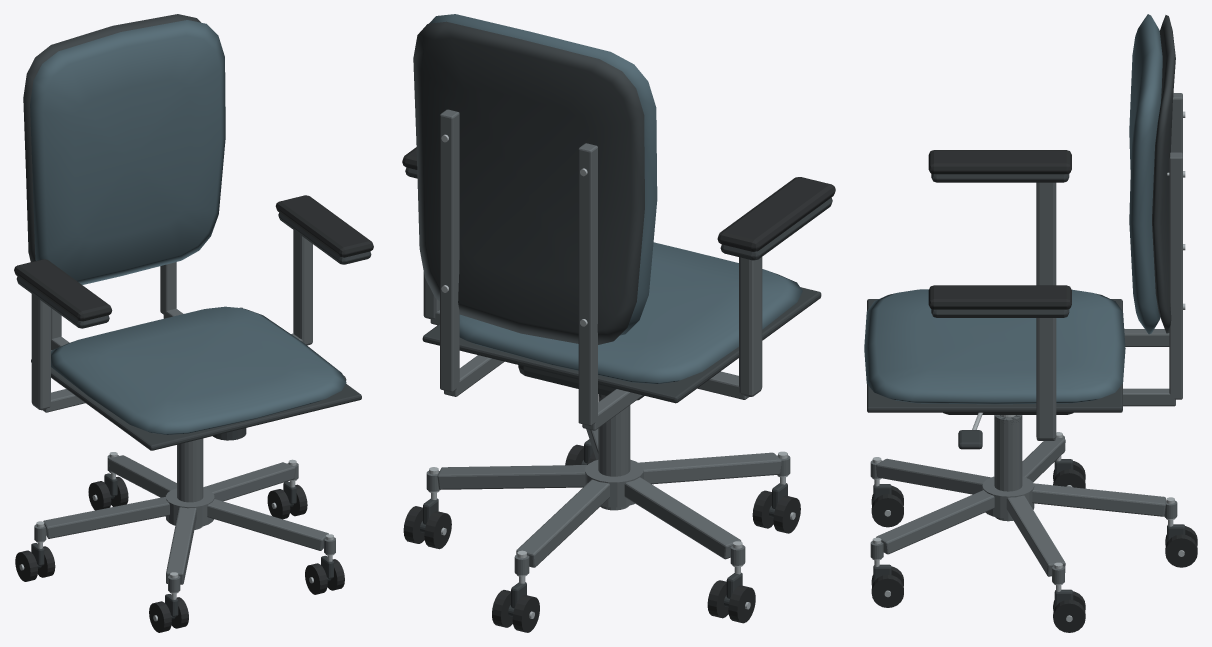
3 views of the same model, side by side, from view 1: azimuth 30°, elevation 25°; view 2: azimuth 150°, elevation 25°; view 3: azimuth 270°, elevation 25° (orthographic). The views are drawn at different scales.
Parts seen in each view (by area): view 1: Back_cushion, Seat_cushion, Seat_under_shell, Back_shell, Arm_pad_-1, Arm_pad_1, Spoke_1, Spoke_3, Arm_post_-1, Arm_post_1, Spoke_4, Column_sleeve (+12 smaller); view 2: Back_shell, Seat_cushion, Back_upright_-1, Back_cushion, Back_upright_1, Seat_under_shell, Arm_pad_-1, Spoke_4, Arm_post_-1, Spoke_2, Spoke_1, Spoke_0 (+15 smaller); view 3: Seat_cushion, Back_cushion, Back_shell, Arm_pad_-1, Arm_pad_1, Back_upright_1, Seat_under_shell, Spoke_0, Spoke_3, Arm_post_1, Spoke_2, Arm_post_-1 (+15 smaller).
Part boxes in pixels (x1,y1,x2,y2): Back_cushion: (30,20,225,284); Seat_cushion: (51,306,346,434); Seat_under_shell: (31,307,361,450); Back_shell: (23,14,200,261); Arm_pad_-1: (14,259,112,321); Arm_pad_1: (275,195,373,257); Spoke_1: (43,497,169,538); Spoke_3: (207,499,328,550); Arm_post_-1: (31,294,50,410); Arm_post_1: (293,230,312,345); Spoke_4: (203,462,295,501); Column_sleeve: (177,438,203,502); Back_shell: (413,21,644,344); Seat_cushion: (459,242,802,383); Back_upright_-1: (578,143,597,425); Back_cushion: (429,14,657,335); Back_upright_1: (440,109,459,392); Seat_under_shell: (422,287,821,403); Arm_pad_-1: (717,177,835,251); Spoke_4: (437,465,587,489); Arm_post_-1: (739,257,762,396); Spoke_2: (638,452,781,484); Spoke_1: (624,477,741,559); Spoke_0: (516,479,609,567); Seat_cushion: (864,289,1125,404); Back_cushion: (1129,14,1162,334); Back_shell: (1152,15,1175,333); Arm_pad_-1: (928,150,1071,174); Arm_pad_1: (928,285,1071,309); Back_upright_1: (1169,152,1182,399); Seat_under_shell: (867,299,1122,412); Spoke_0: (1032,483,1165,516); Spoke_3: (876,490,994,554); Arm_post_1: (1036,318,1056,439); Spoke_2: (876,458,990,494); Arm_post_-1: (1036,182,1056,285).
Size of the model in its own units: 0.67 by 1.05 by 0.6165.
